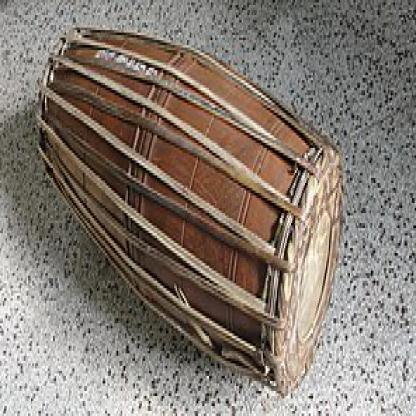Mridangam: (15, 28, 354, 355)
